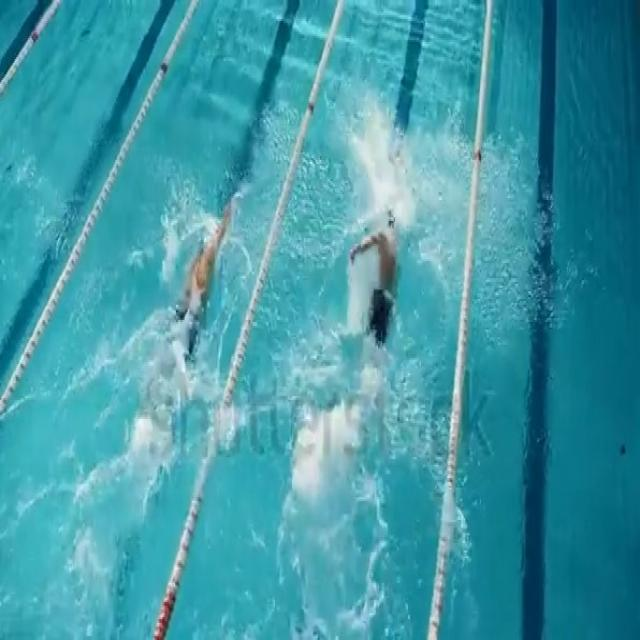swimming: (348, 167, 415, 375), (179, 182, 246, 387)
